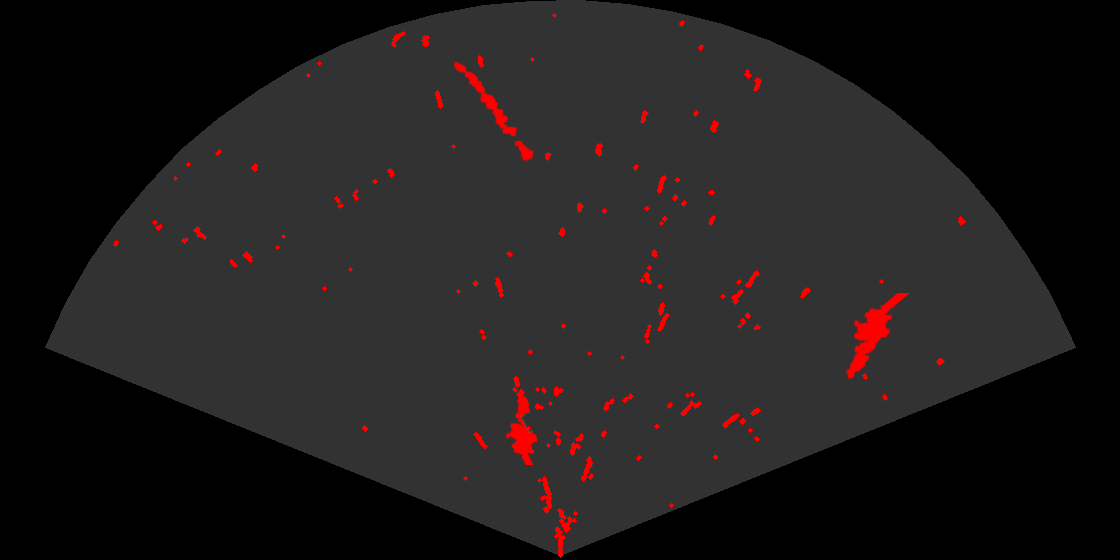chain: (452, 60, 536, 163)
frogman: (844, 293, 911, 381), (504, 387, 539, 465)
